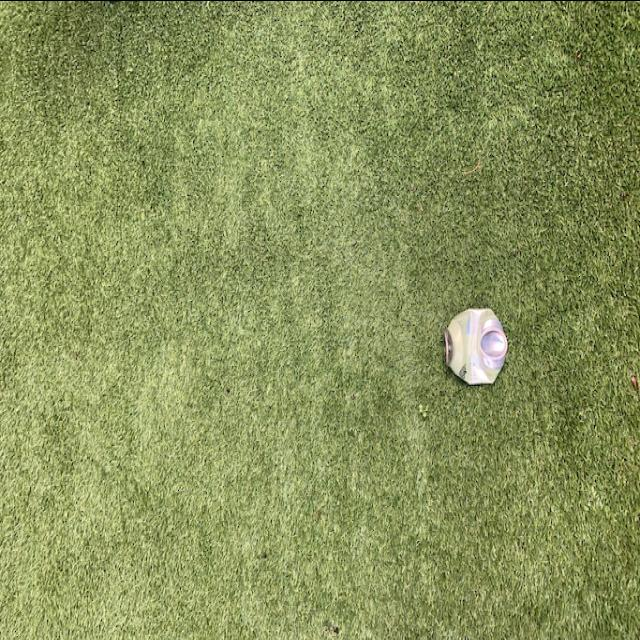Aluminum Can: (438, 303, 509, 392)
